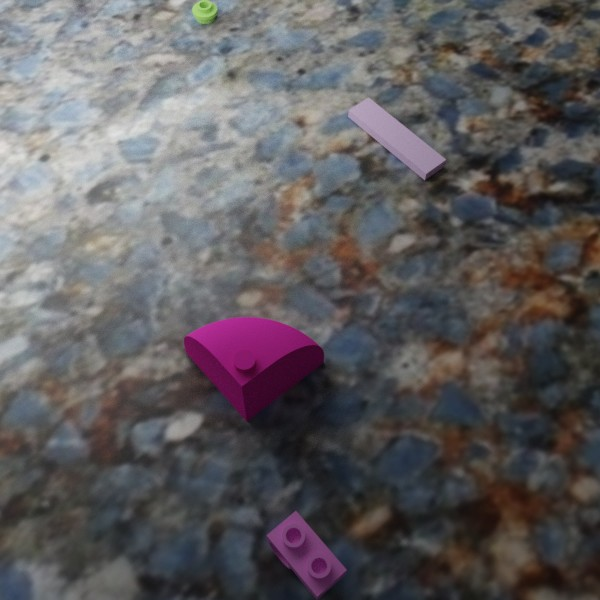lego: (183, 317, 324, 421), (348, 97, 446, 180), (266, 510, 346, 600), (192, 0, 217, 23)
